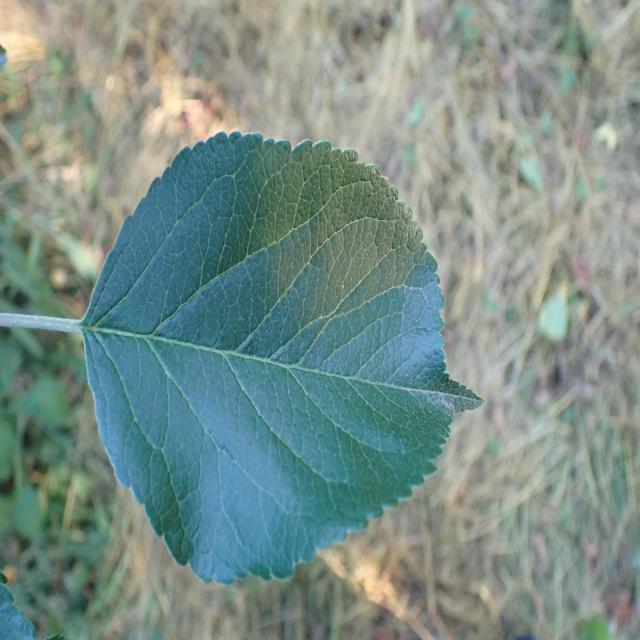healthy: (82, 129, 487, 586)
